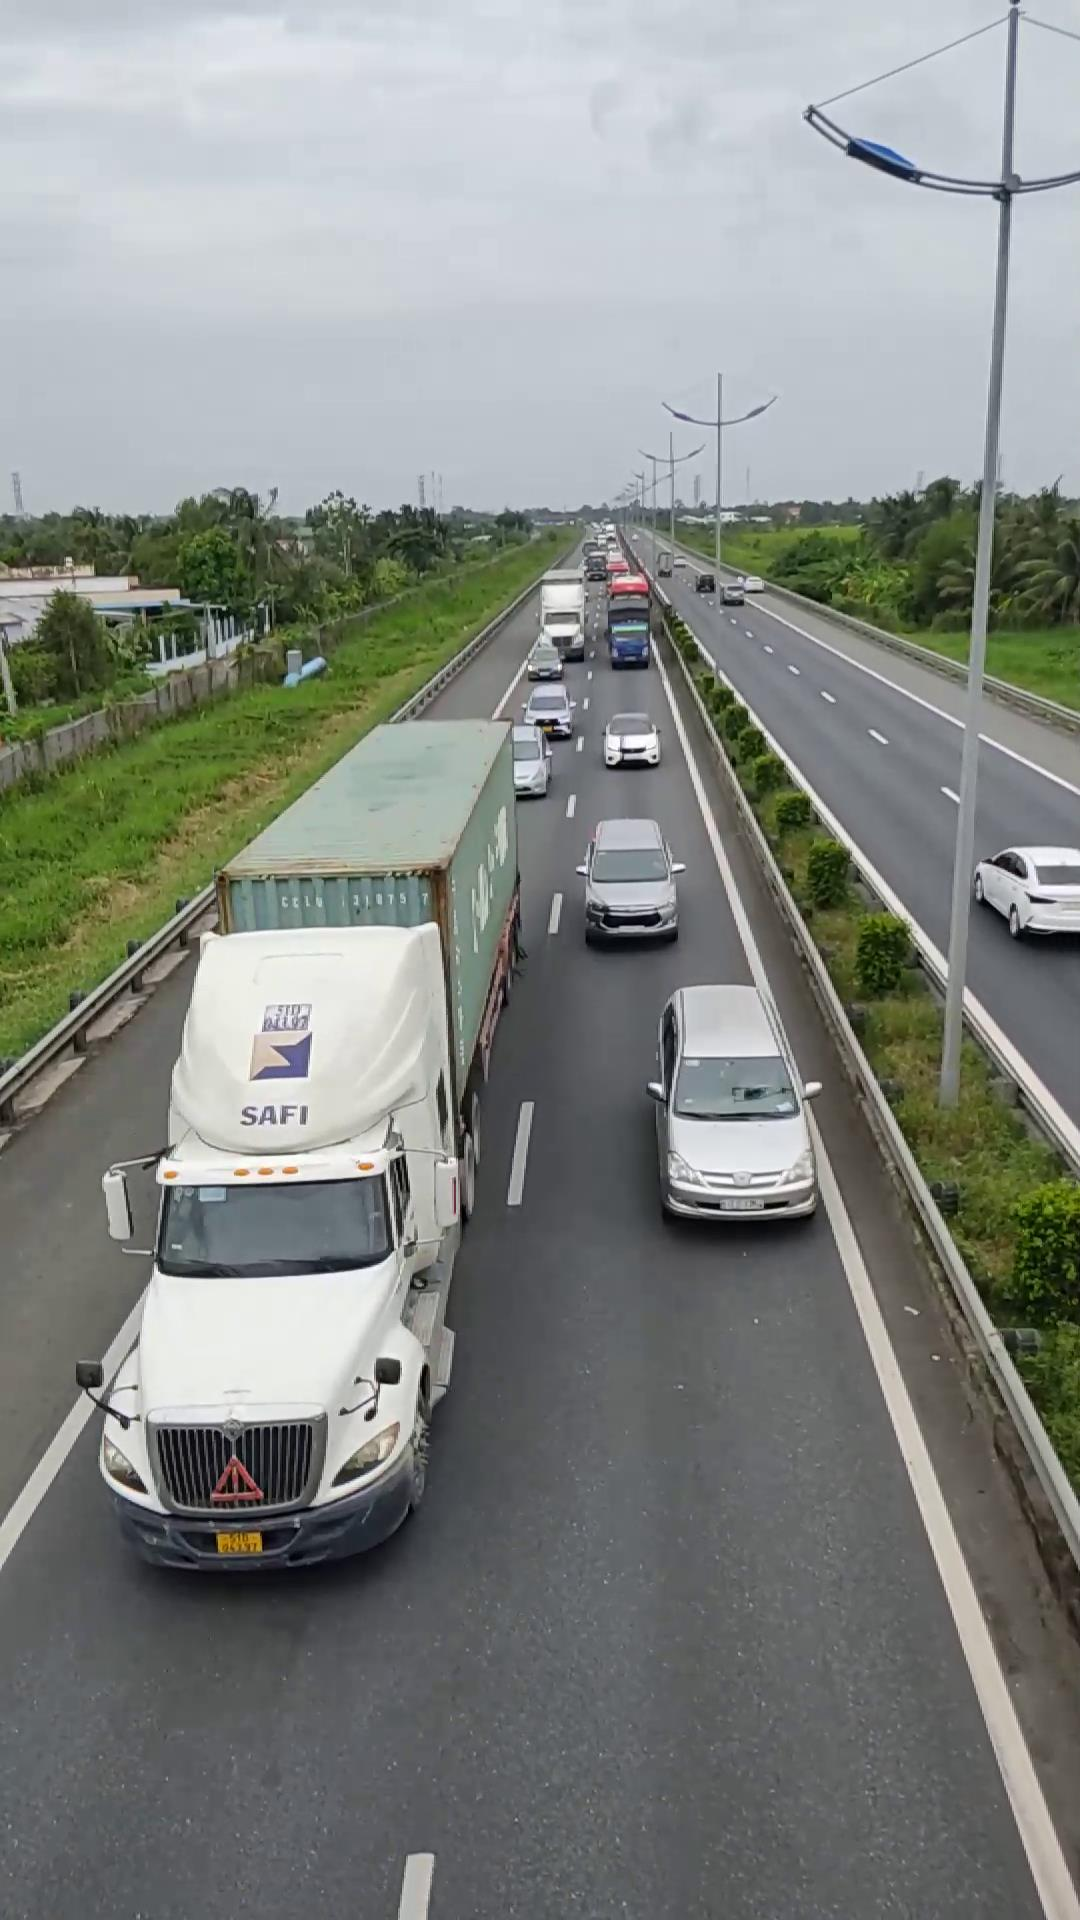car: (646, 980, 820, 1225), (578, 815, 683, 945), (972, 843, 1079, 939)
container: (111, 713, 527, 1575)
